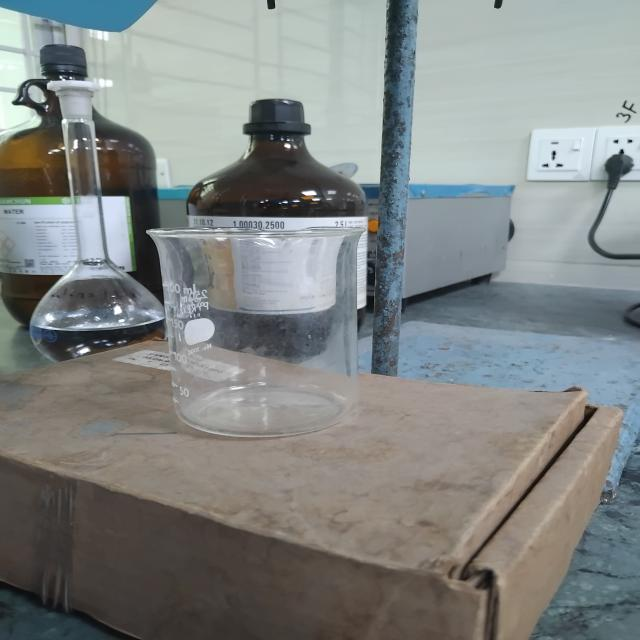Beaker: (132, 163, 402, 470)
